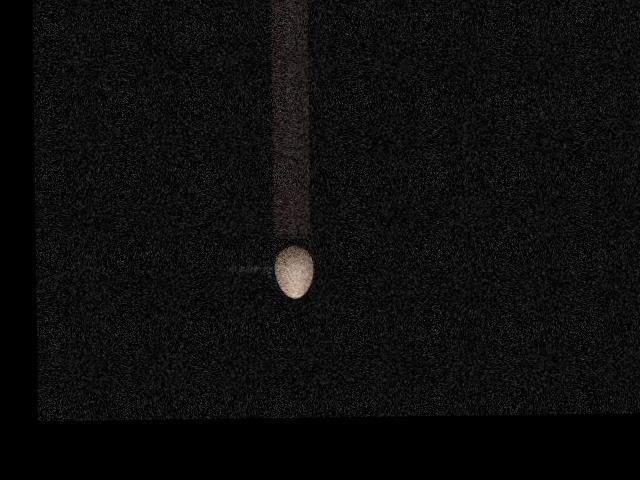egg: (275, 245, 314, 298)
